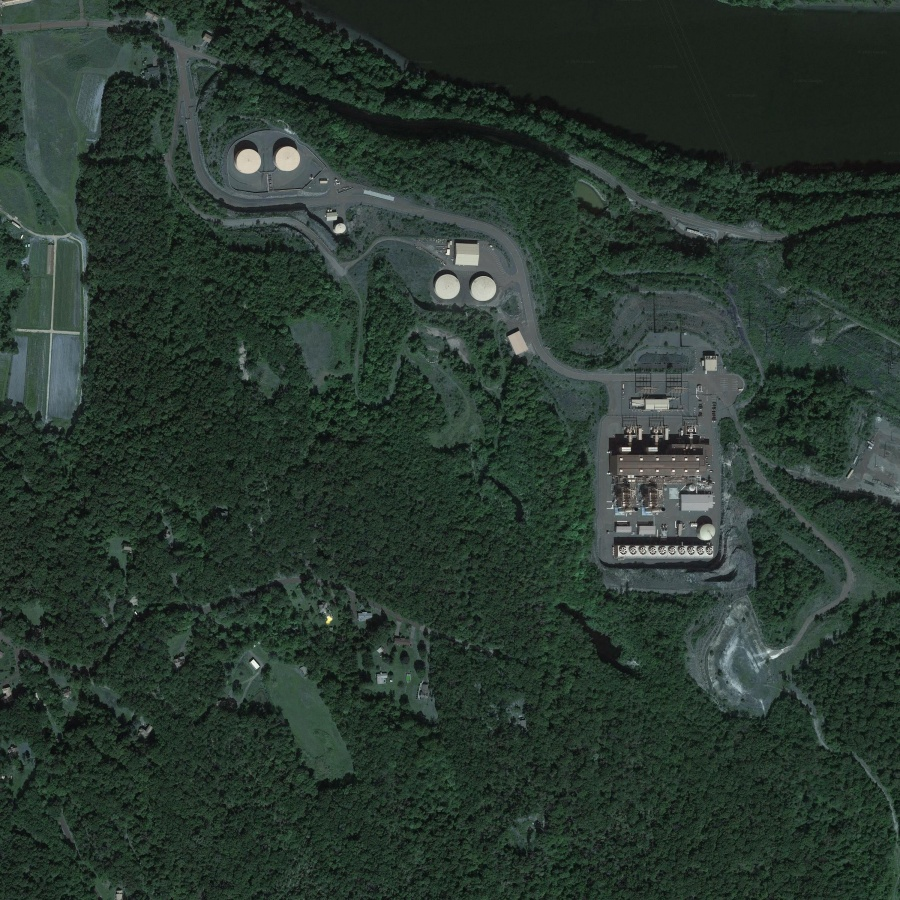PowerPlant: (600, 335, 746, 575)
